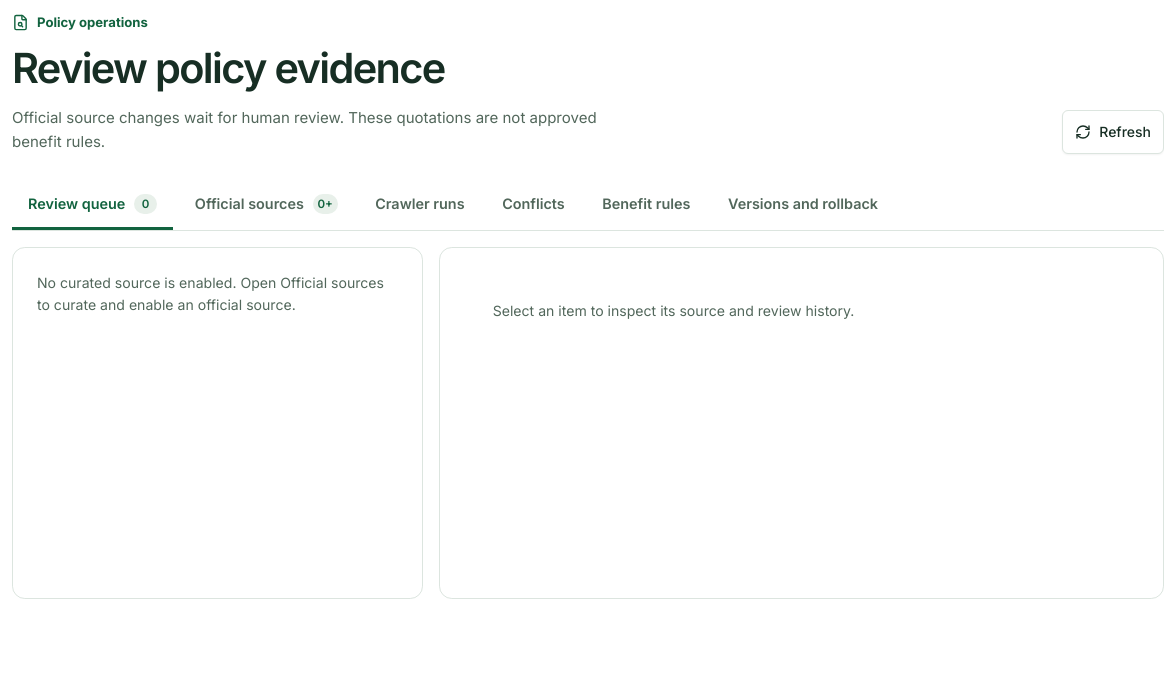
policy source registry console › keeps source pagination available after an empty first page
The image size is (1176, 691).
Click the button "Official sources 0+": [266, 206] box [179,181,354,230]
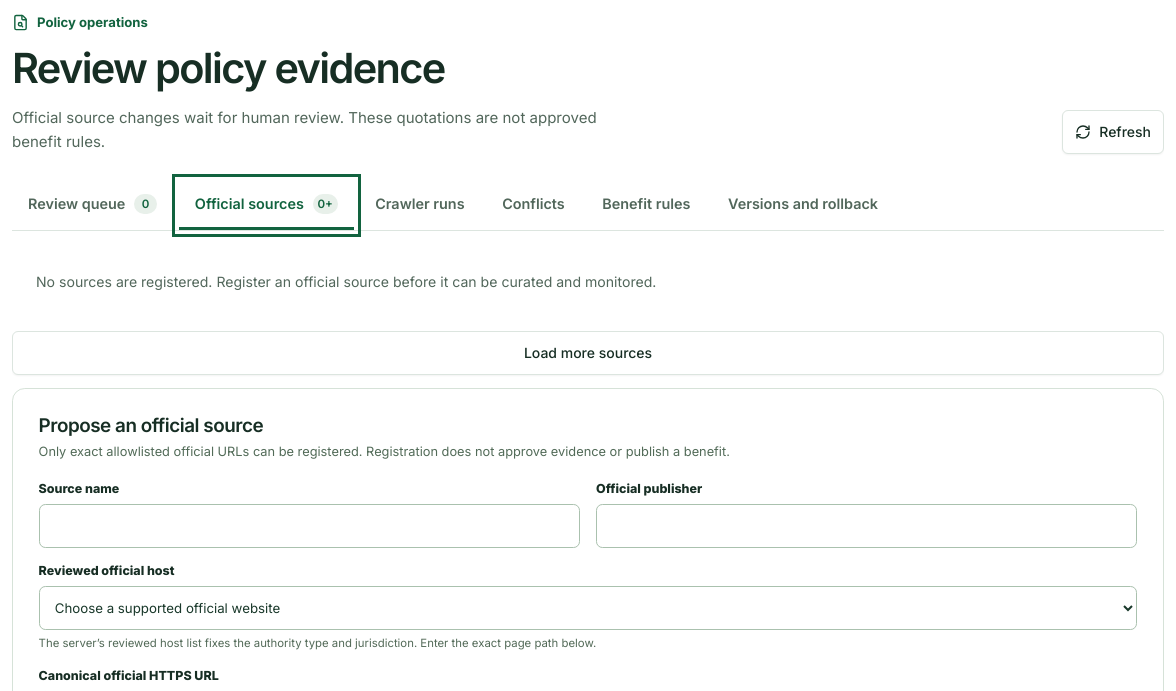
Click the button "Load more sources": [588, 353] box [12,331,1164,375]
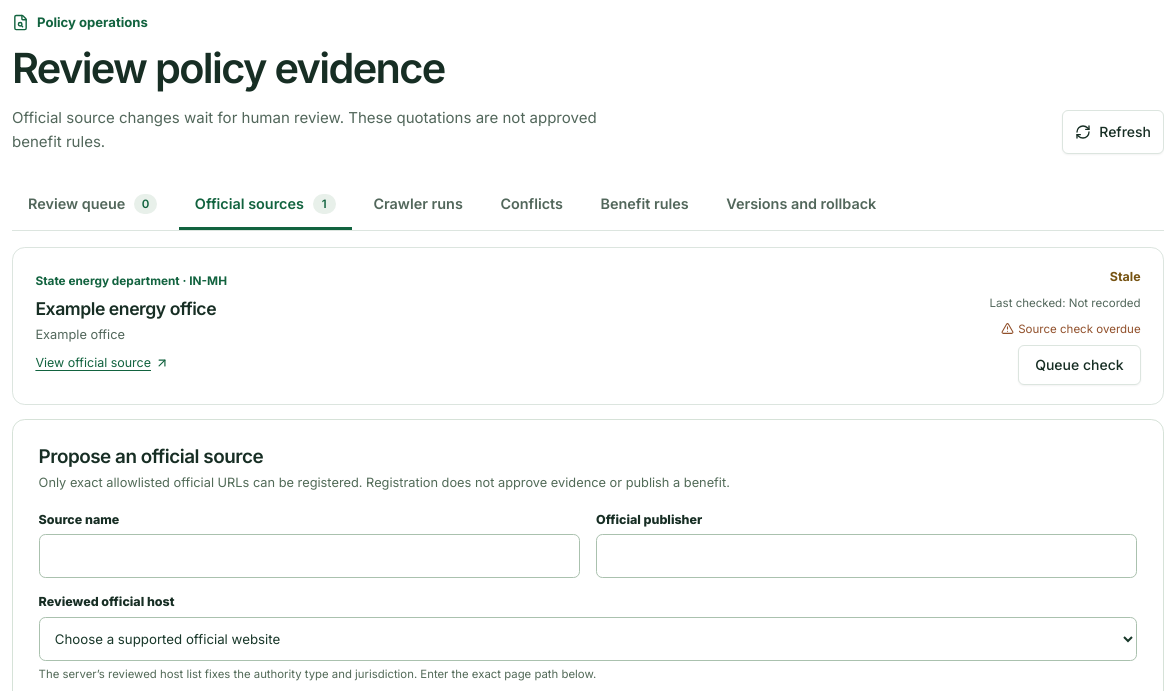
Expected: the heading "Example energy office" is shown, [35,298,227,319]
